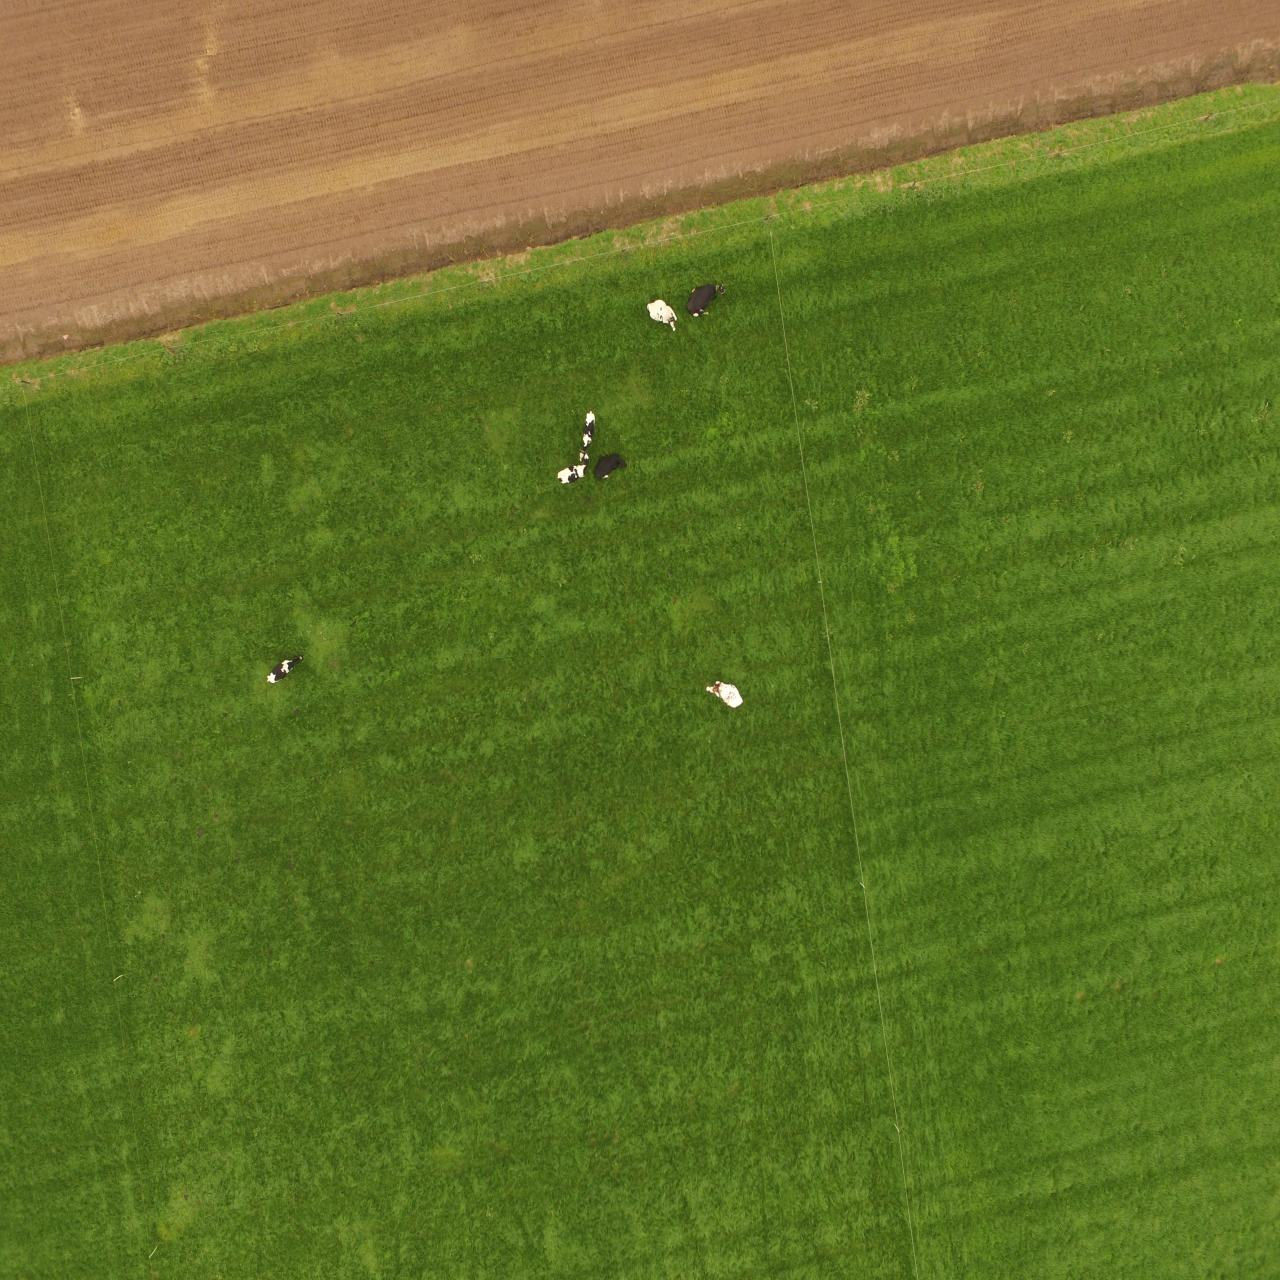cow: (686, 278, 727, 322), (640, 299, 682, 333), (703, 676, 745, 709), (266, 652, 304, 683), (591, 457, 628, 481), (554, 459, 588, 484), (580, 407, 594, 449)
